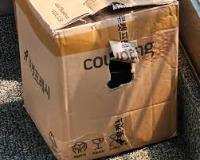damaged package: (52, 3, 167, 33), (99, 42, 142, 92)
undamaged: (11, 0, 181, 158)
